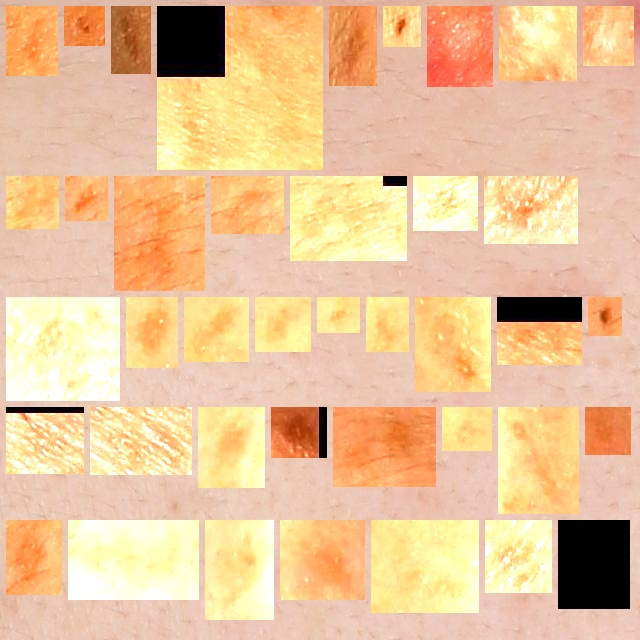hypertrophic_scar: (507, 14, 569, 73), (435, 14, 485, 79), (591, 14, 626, 58)
melasma: (165, 14, 315, 162), (14, 305, 112, 393), (122, 184, 197, 283), (76, 528, 191, 592), (379, 528, 471, 605), (298, 184, 399, 253), (506, 415, 571, 506), (341, 415, 428, 479), (423, 305, 483, 384), (98, 415, 184, 467), (213, 528, 266, 612), (288, 528, 357, 592), (566, 528, 622, 601), (492, 184, 570, 236), (505, 305, 574, 357), (206, 415, 257, 480), (14, 415, 76, 466), (493, 528, 544, 585), (192, 305, 241, 354), (219, 184, 276, 226), (14, 528, 54, 587), (337, 14, 369, 78), (134, 305, 170, 360), (14, 14, 50, 68), (421, 184, 470, 223), (263, 305, 303, 344), (279, 415, 319, 450), (14, 184, 51, 221), (119, 14, 143, 66), (374, 305, 401, 344), (593, 415, 623, 447), (450, 415, 484, 443), (73, 184, 100, 213), (72, 14, 97, 38), (325, 305, 352, 325)
nevus: (391, 14, 413, 39), (596, 305, 614, 328)
